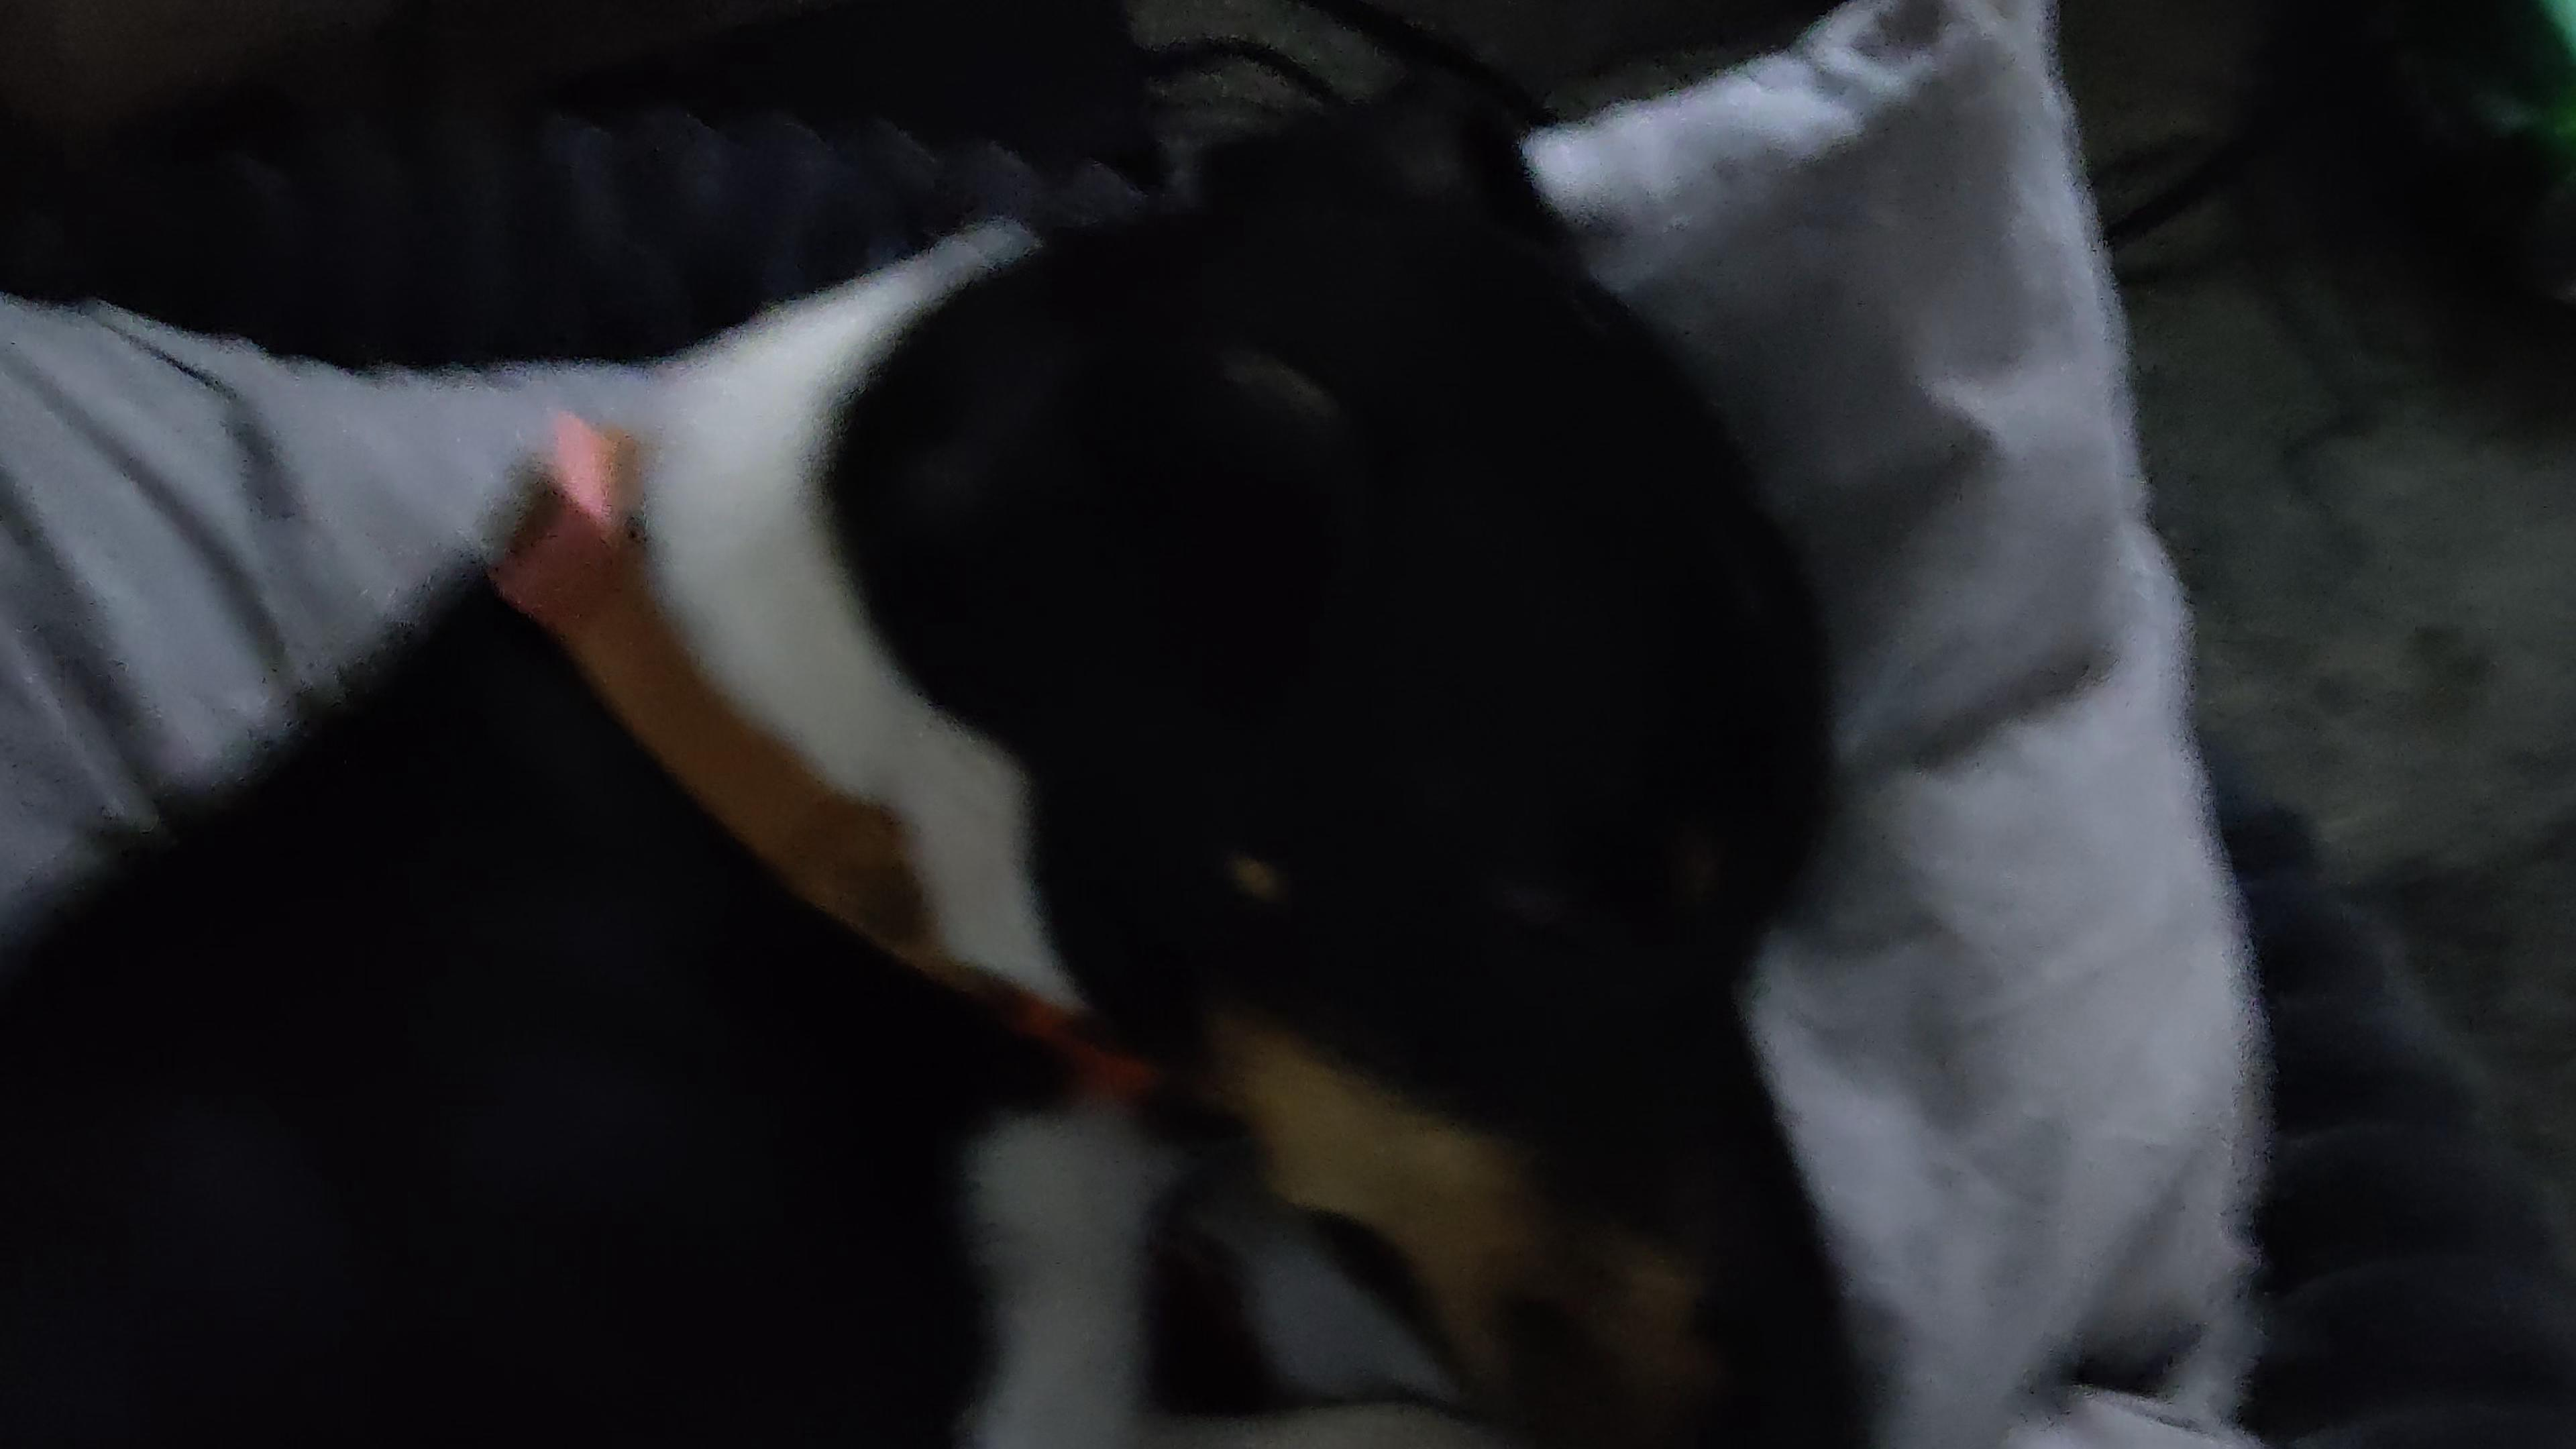Dog: (0, 50, 1920, 1449)
